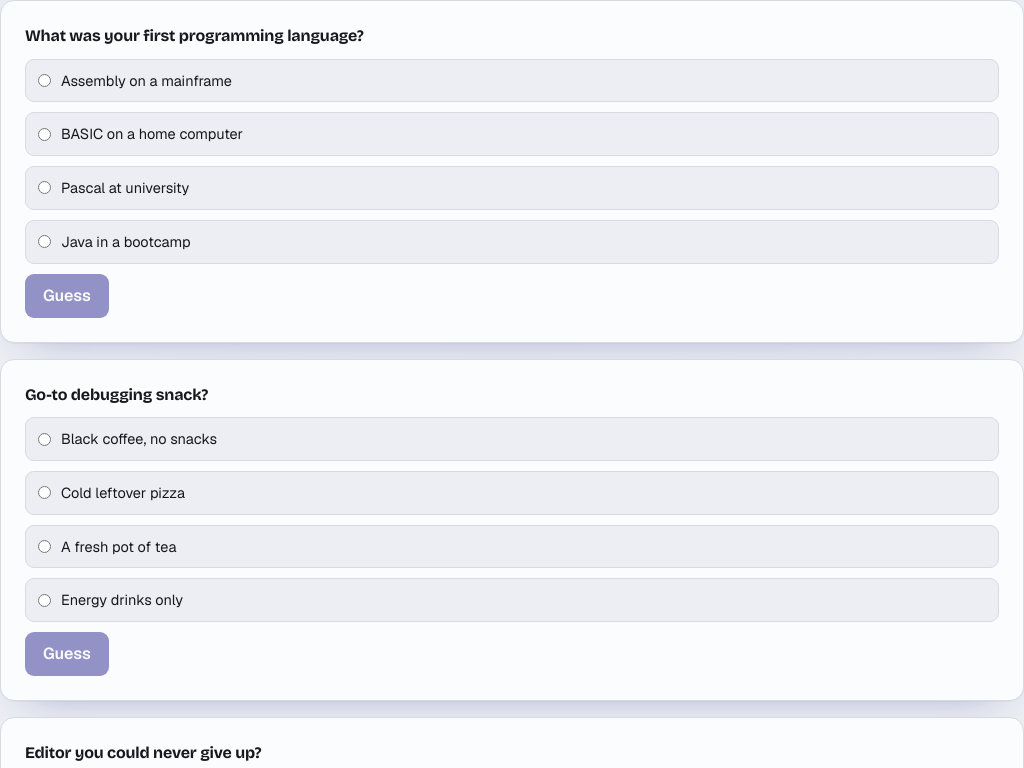
Scenario: GuessForm: successful guess › POSTs the selected option once and reveals + locks that question
Note: Select an option for the first question and submit it.
What coordinates should you click on to do the following:
click the radio button labelled "Assembly on a mainframe"
I would click on:
 (44, 80)
Its box is [38, 74, 51, 87].
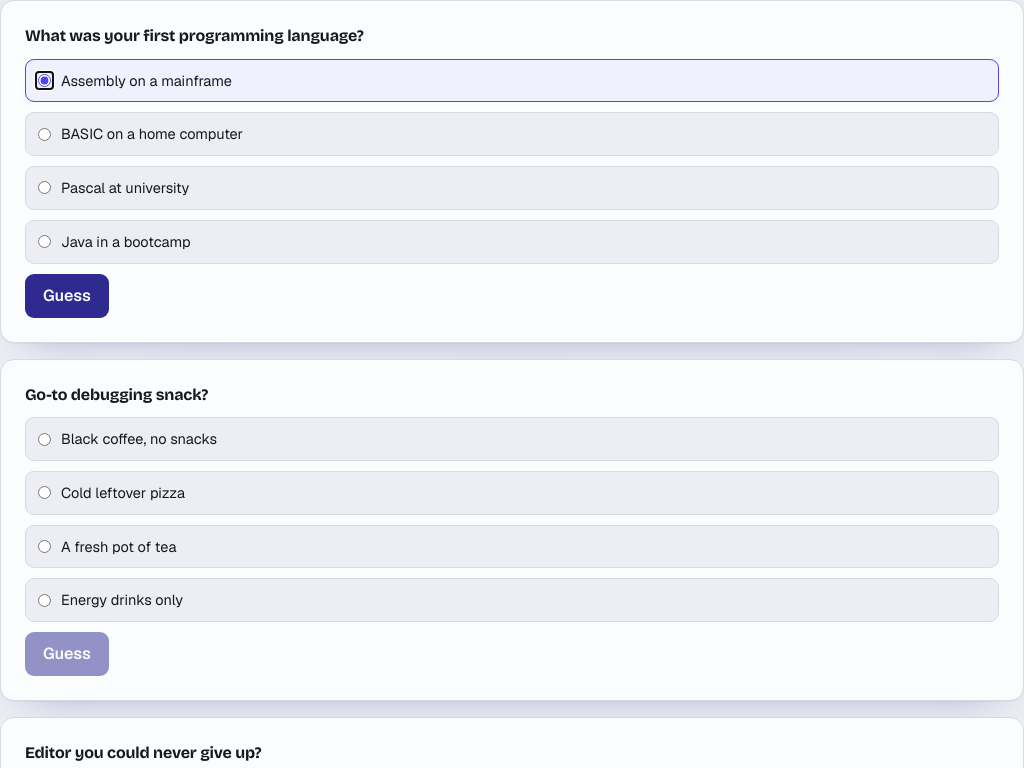
What coordinates should you click on to do the following:
click the button "Guess" below "Java in a bootcamp"
I would click on:
 (67, 296)
Its box is [25, 274, 109, 318].
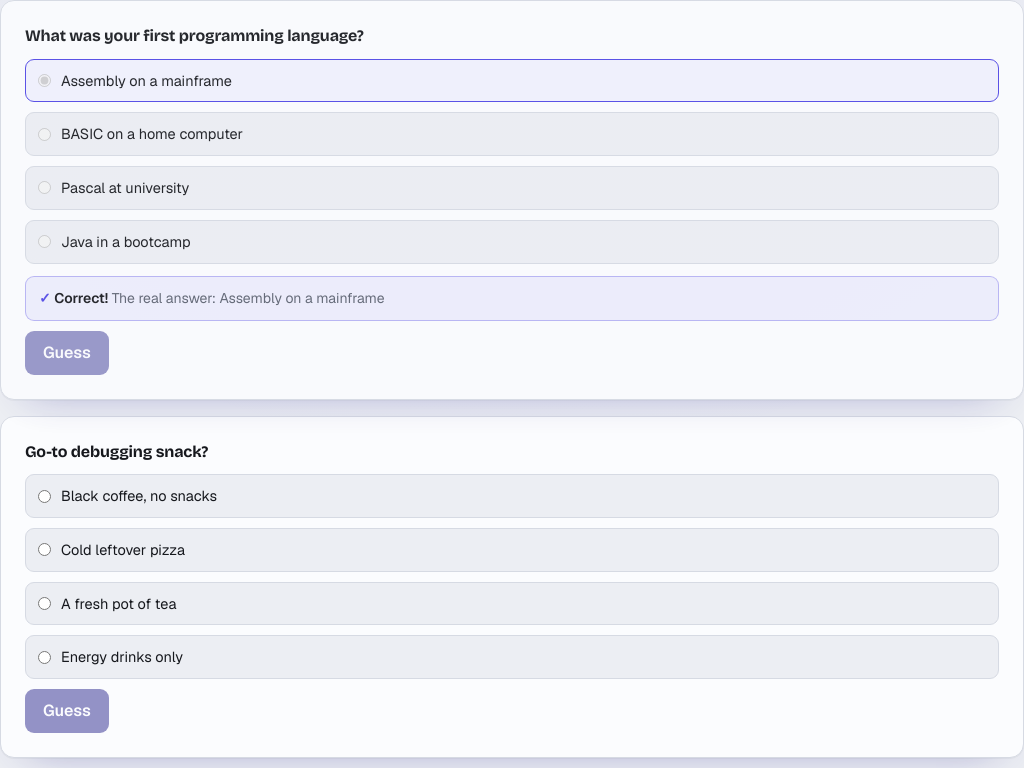
Check: the message shows "Assembly on a mainframe", box [220, 289, 385, 307]
Check: the radio button labelled "Assembly on a mainframe" is disabled, box [38, 74, 51, 87]
Check: the radio button labelled "BASIC on a home computer" is disabled, box [38, 128, 51, 141]
